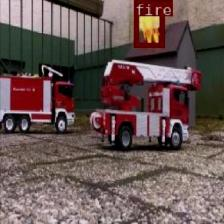fire: (133, 0, 163, 46)
